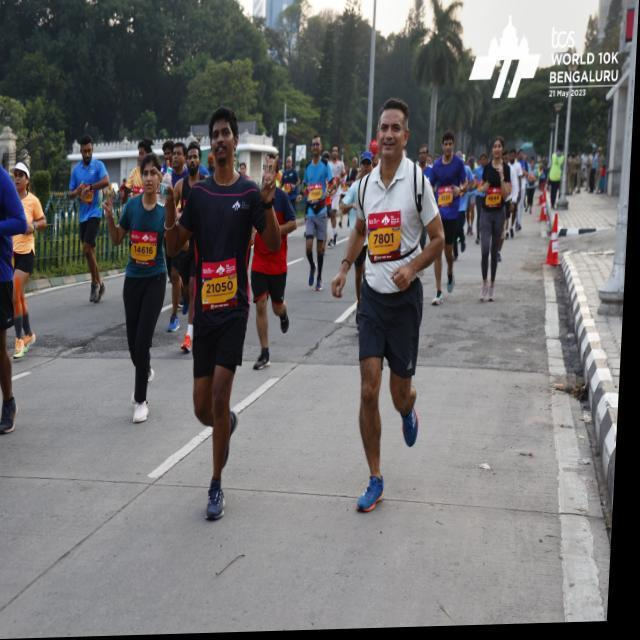dorsal: (203, 260, 246, 315), (368, 214, 408, 264), (130, 228, 163, 270)
